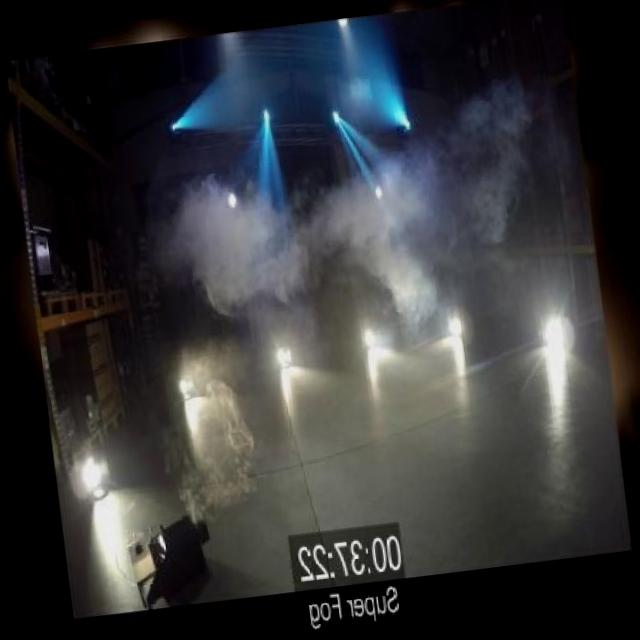smoke: (180, 144, 457, 306)
